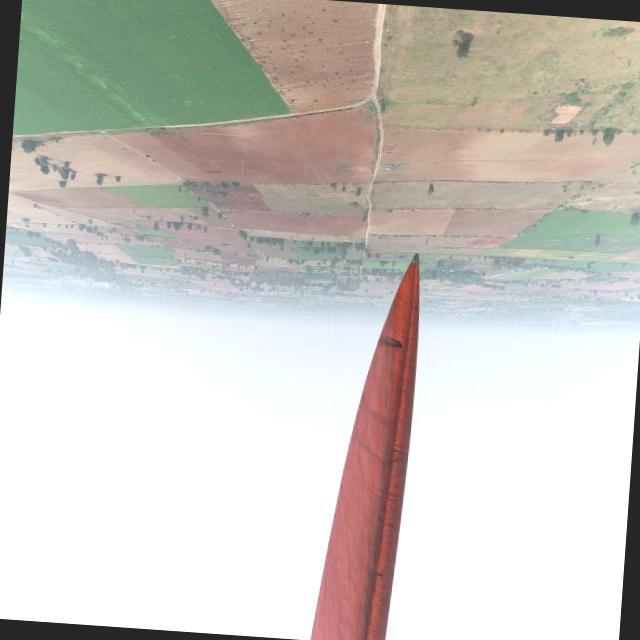Dirt: (311, 256, 421, 640)
